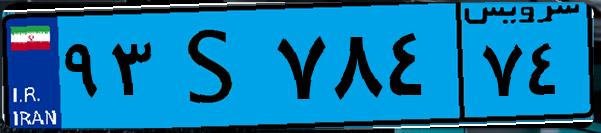3: (110, 28, 158, 98)
4: (385, 28, 445, 110), (525, 38, 570, 115)
7: (270, 28, 330, 110), (475, 38, 525, 113)
8: (330, 28, 385, 110)
9: (57, 26, 110, 100)
S: (158, 12, 270, 120)
